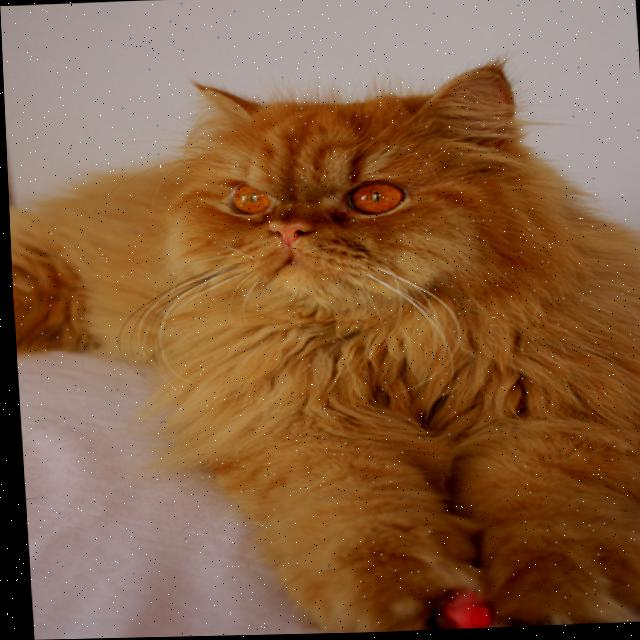Persian: (2, 49, 640, 640)
